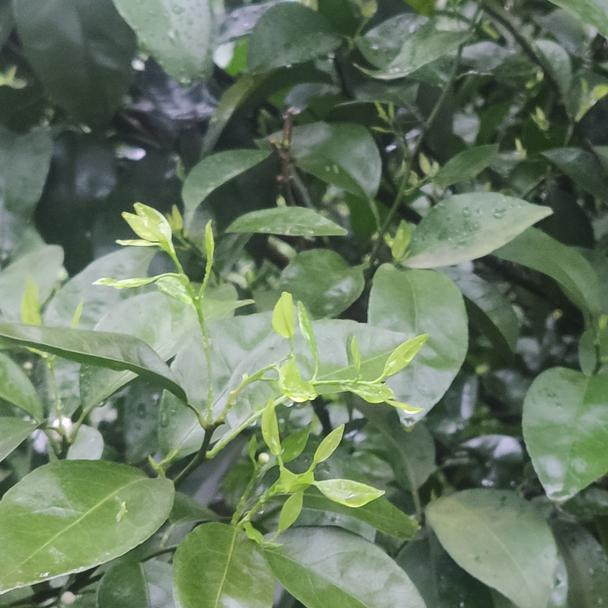shoot: (305, 319, 433, 422), (262, 419, 378, 531), (117, 208, 222, 326)
